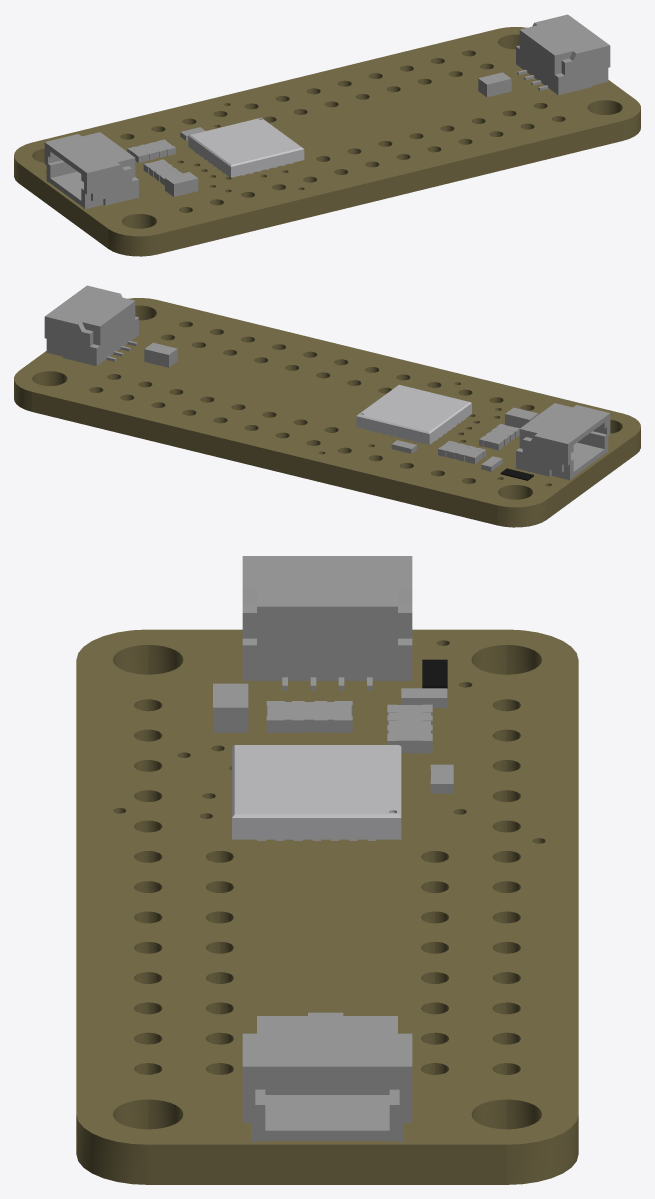
Rendered from ada-5346.glb.
3 views of the same model, one above another, from view 1: azimuth 30°, elevation 25°; view 2: azimuth 150°, elevation 25°; view 3: azimuth 270°, elevation 25° (orthographic). The views are drawn at different scales.
Parts seen in each view (by area): view 1: 0.16666666666666666_0.16666666666666666_0.08333333333333333_, 0.3333333333333333_0.3333333333333333_0.3333333333333333_0, 0.5833333333333334_0.5833333333333334_0.5833333333333334_0.8; view 2: 0.16666666666666666_0.16666666666666666_0.08333333333333333_, 0.3333333333333333_0.3333333333333333_0.3333333333333333_0, 0.5833333333333334_0.5833333333333334_0.5833333333333334_0.8; view 3: 0.16666666666666666_0.16666666666666666_0.08333333333333333_, 0.3333333333333333_0.3333333333333333_0.3333333333333333_0, 0.5833333333333334_0.5833333333333334_0.5833333333333334_0.8.
Part boxes in pixels (x1=…): 0.16666666666666666_0.16666666666666666_0.08333333333333333_: x1=14, y1=27, x2=640, y2=256; 0.3333333333333333_0.3333333333333333_0.3333333333333333_0: x1=44, y1=14, x2=610, y2=209; 0.5833333333333334_0.5833333333333334_0.5833333333333334_0.8: x1=188, y1=117, x2=304, y2=177; 0.16666666666666666_0.16666666666666666_0.08333333333333333_: x1=14, y1=298, x2=640, y2=527; 0.3333333333333333_0.3333333333333333_0.3333333333333333_0: x1=44, y1=285, x2=610, y2=480; 0.5833333333333334_0.5833333333333334_0.5833333333333334_0.8: x1=356, y1=384, x2=471, y2=444; 0.16666666666666666_0.16666666666666666_0.08333333333333333_: x1=76, y1=629, x2=578, y2=1184; 0.3333333333333333_0.3333333333333333_0.3333333333333333_0: x1=213, y1=556, x2=453, y2=1142; 0.5833333333333334_0.5833333333333334_0.5833333333333334_0.8: x1=232, y1=745, x2=401, y2=840.
Size of the model in its own units: 4.32 by 0.4531 by 1.78.
